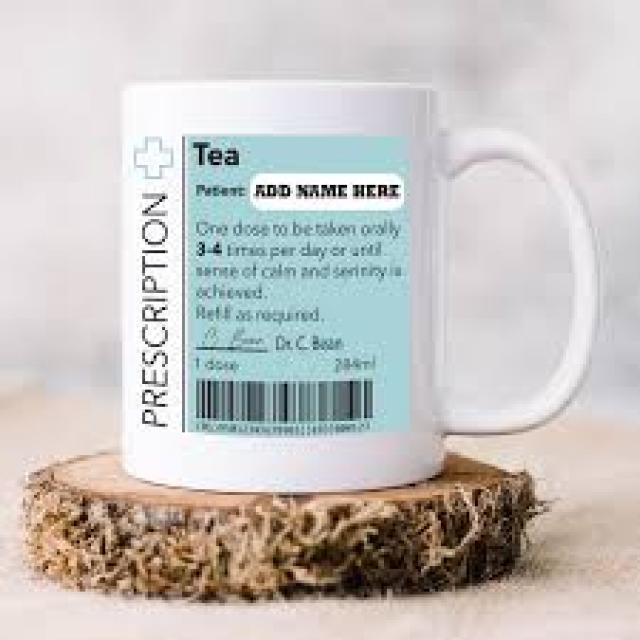taza: (102, 76, 614, 508), (8, 548, 102, 636)
